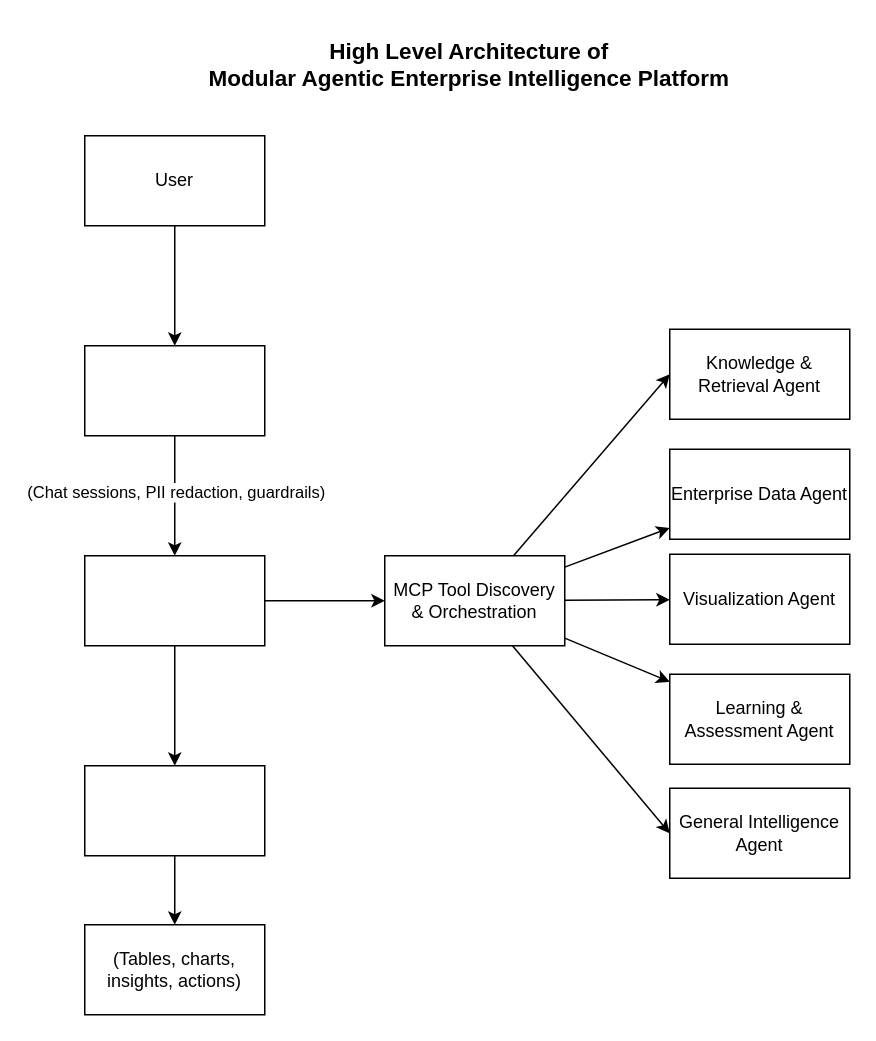
The diagram is 876 pixels wide and 1041 high, and some of its shapes have lost their labels. Here are the shapes that lost their labels. From the top down, the centre of each, then its label:
At [174,390]: "Session & Privacy Layers".
At [174,600]: "Reasoning Engine (LLM)".
At [174,810]: "Structured Outputs".
